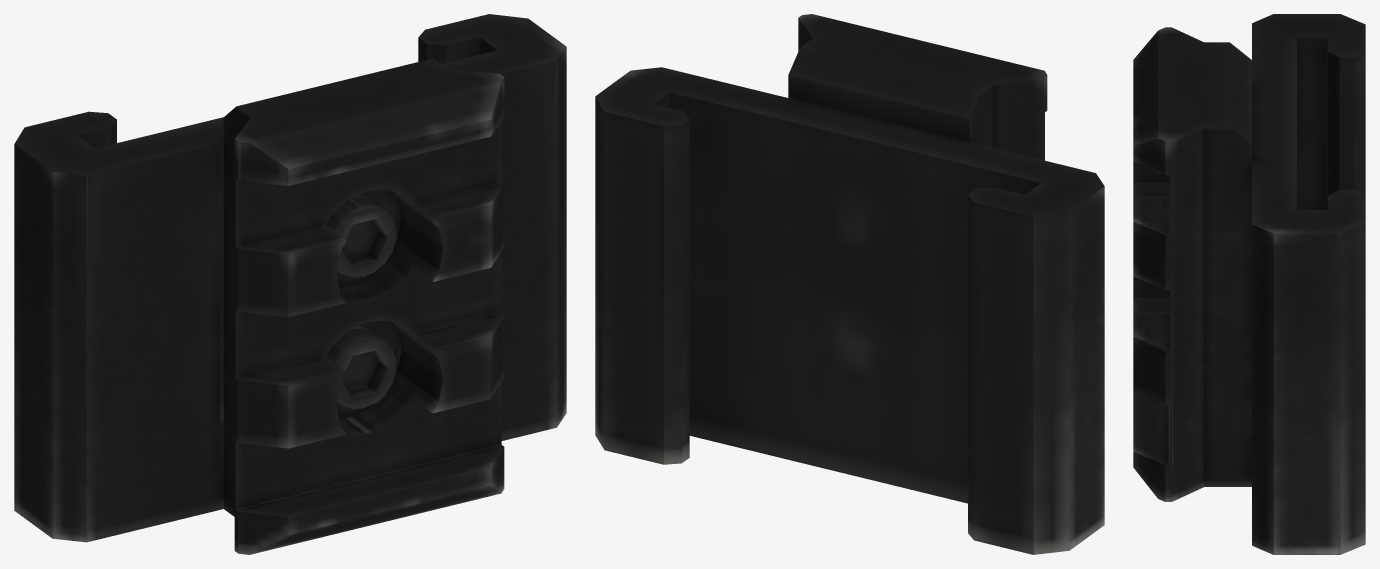
The picture shows the model from 3 angles, left to right: view 1: azimuth 30°, elevation 25°; view 2: azimuth 150°, elevation 25°; view 3: azimuth 270°, elevation 25°; orthographic projection. The views are drawn at different scales.
Visible parts, largest first — view 1: TW_668672b8c99550c6fd0f0b29_PZ_Import; view 2: TW_668672b8c99550c6fd0f0b29_PZ_Import; view 3: TW_668672b8c99550c6fd0f0b29_PZ_Import.
Part boxes in pixels (box(x1,y1,x2,y2)): TW_668672b8c99550c6fd0f0b29_PZ_Import: box(14, 14, 566, 554); TW_668672b8c99550c6fd0f0b29_PZ_Import: box(595, 14, 1104, 554); TW_668672b8c99550c6fd0f0b29_PZ_Import: box(1133, 14, 1365, 554).
Size of the model in its own units: 0.0237 by 0.0106 by 0.0181.
Materials: 1 (1 with a texture image).
